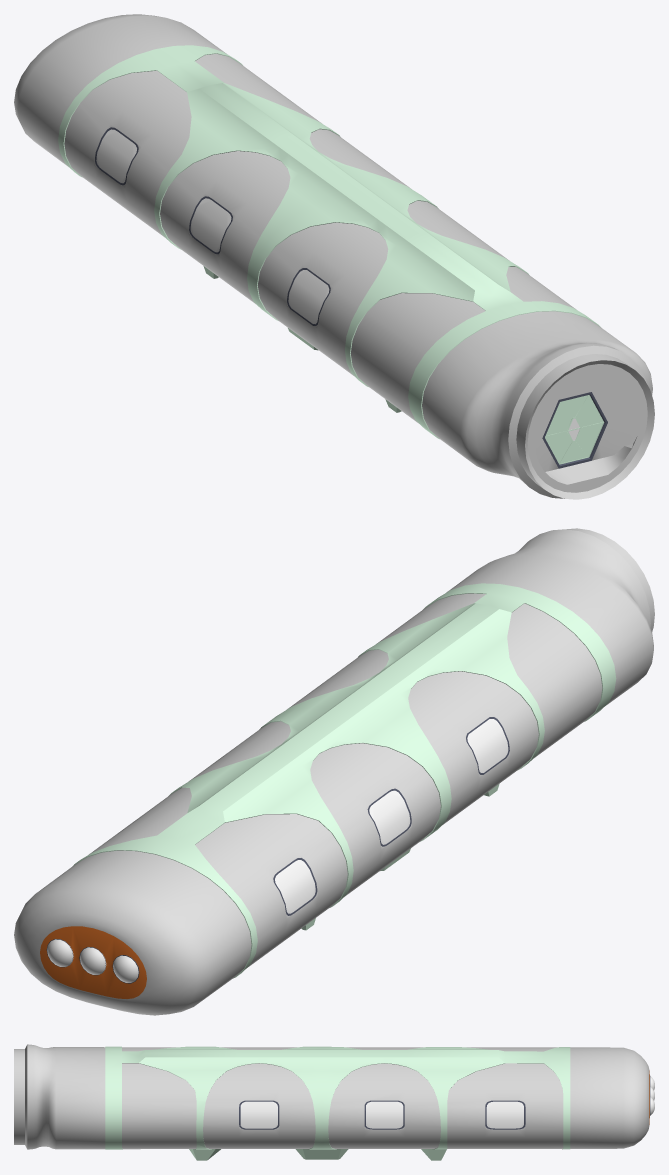
3 views of the same model, one above another, from view 1: azimuth 30°, elevation 25°; view 2: azimuth 150°, elevation 25°; view 3: azimuth 270°, elevation 25° (orthographic). The views are drawn at different scales.
Visible parts, largest first — view 1: Ground_Passenger_Pod_LOD0, PassengerPod_Hatch_LOD0; view 2: Ground_Passenger_Pod_LOD0; view 3: Ground_Passenger_Pod_LOD0.
Part boxes in pixels (x1=…): Ground_Passenger_Pod_LOD0: x1=14, y1=14, x2=654, y2=499; PassengerPod_Hatch_LOD0: x1=545, y1=395, x2=604, y2=464; Ground_Passenger_Pod_LOD0: x1=14, y1=528, x2=654, y2=1015; Ground_Passenger_Pod_LOD0: x1=14, y1=1044, x2=654, y2=1160.
Size of what is drawn, in the model's own units: 6.05 by 4.46 by 27.01.
